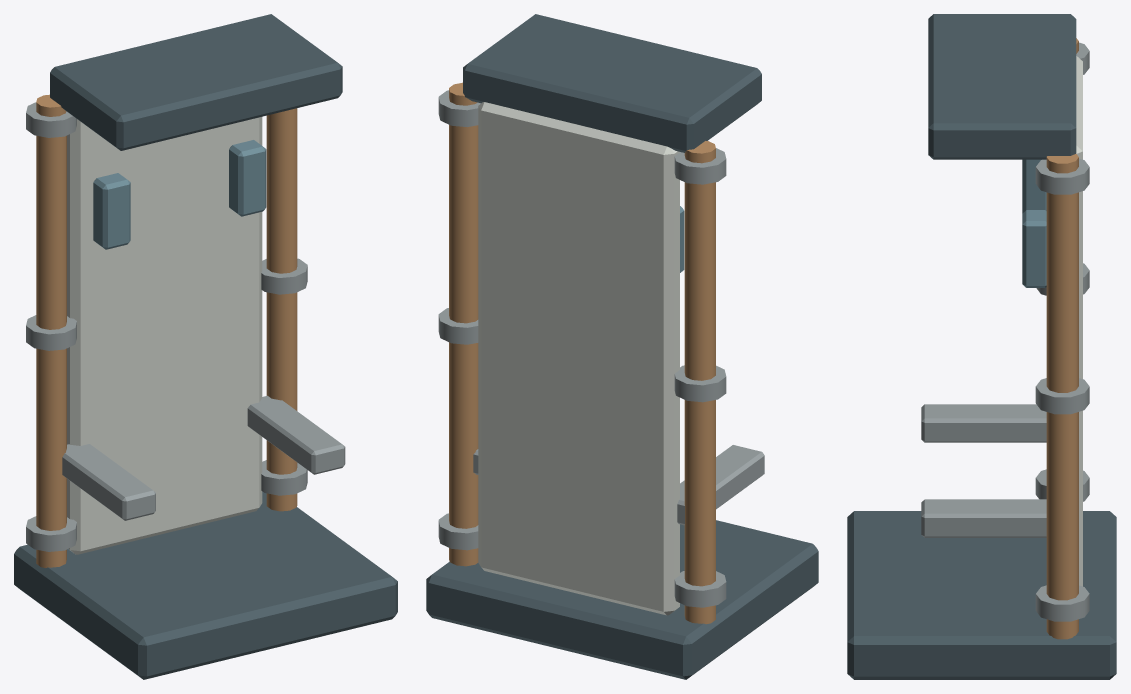
The model's file is cradle_pod_spine.glb.
3 views of the same model, side by side, from view 1: azimuth 30°, elevation 25°; view 2: azimuth 150°, elevation 25°; view 3: azimuth 270°, elevation 25° (orthographic). The views are drawn at different scales.
Visible parts, largest first — view 1: ceramic, deepsteel, deepsteel.001, copper, copper.001, steel.007, steel.003, bluecase, bluecase.001, steel.001, steel, steel.002 (+2 smaller); view 2: ceramic, deepsteel, deepsteel.001, copper, copper.001, steel.003, steel, steel.001, steel.002, steel.006, steel.004, steel.005; view 3: deepsteel, deepsteel.001, copper.001, steel.007, steel.003, ceramic, bluecase.001, steel.005, steel.004, steel.006, bluecase, steel.
Part boxes in pixels (<box>): ceramic: <box>67,117,262,554</box>; deepsteel: <box>14,491,397,679</box>; deepsteel.001: <box>50,14,342,150</box>; copper: <box>36,94,66,567</box>; copper.001: <box>266,108,297,511</box>; steel.007: <box>247,395,345,474</box>; steel.003: <box>62,444,155,520</box>; bluecase: <box>93,173,130,249</box>; bluecase.001: <box>229,140,266,216</box>; steel.001: <box>26,315,76,350</box>; steel: <box>26,516,76,551</box>; steel.002: <box>26,102,76,137</box>; ceramic: <box>478,102,679,615</box>; deepsteel: <box>426,520,818,679</box>; deepsteel.001: <box>463,14,761,152</box>; copper: <box>684,141,715,624</box>; copper.001: <box>449,82,478,566</box>; steel.003: <box>677,445,764,525</box>; steel: <box>674,571,726,607</box>; steel.001: <box>674,365,726,402</box>; steel.002: <box>674,148,726,184</box>; steel.006: <box>438,90,480,127</box>; steel.004: <box>438,513,478,550</box>; steel.005: <box>438,308,478,344</box>; deepsteel: <box>847,511,1116,679</box>; deepsteel.001: <box>928,14,1076,159</box>; copper.001: <box>1046,154,1078,639</box>; steel.007: <box>921,499,1046,537</box>; steel.003: <box>921,404,1046,442</box>; ceramic: <box>1076,56,1082,586</box>; bluecase.001: <box>1022,210,1046,287</box>; steel.005: <box>1035,378,1089,414</box>; steel.004: <box>1035,585,1089,621</box>; steel.006: <box>1035,158,1089,194</box>; bluecase: <box>1022,159,1046,213</box>; steel: <box>1035,469,1089,501</box>.
Bounding box in the file's own units: 2.42 × 4.5 × 2.
